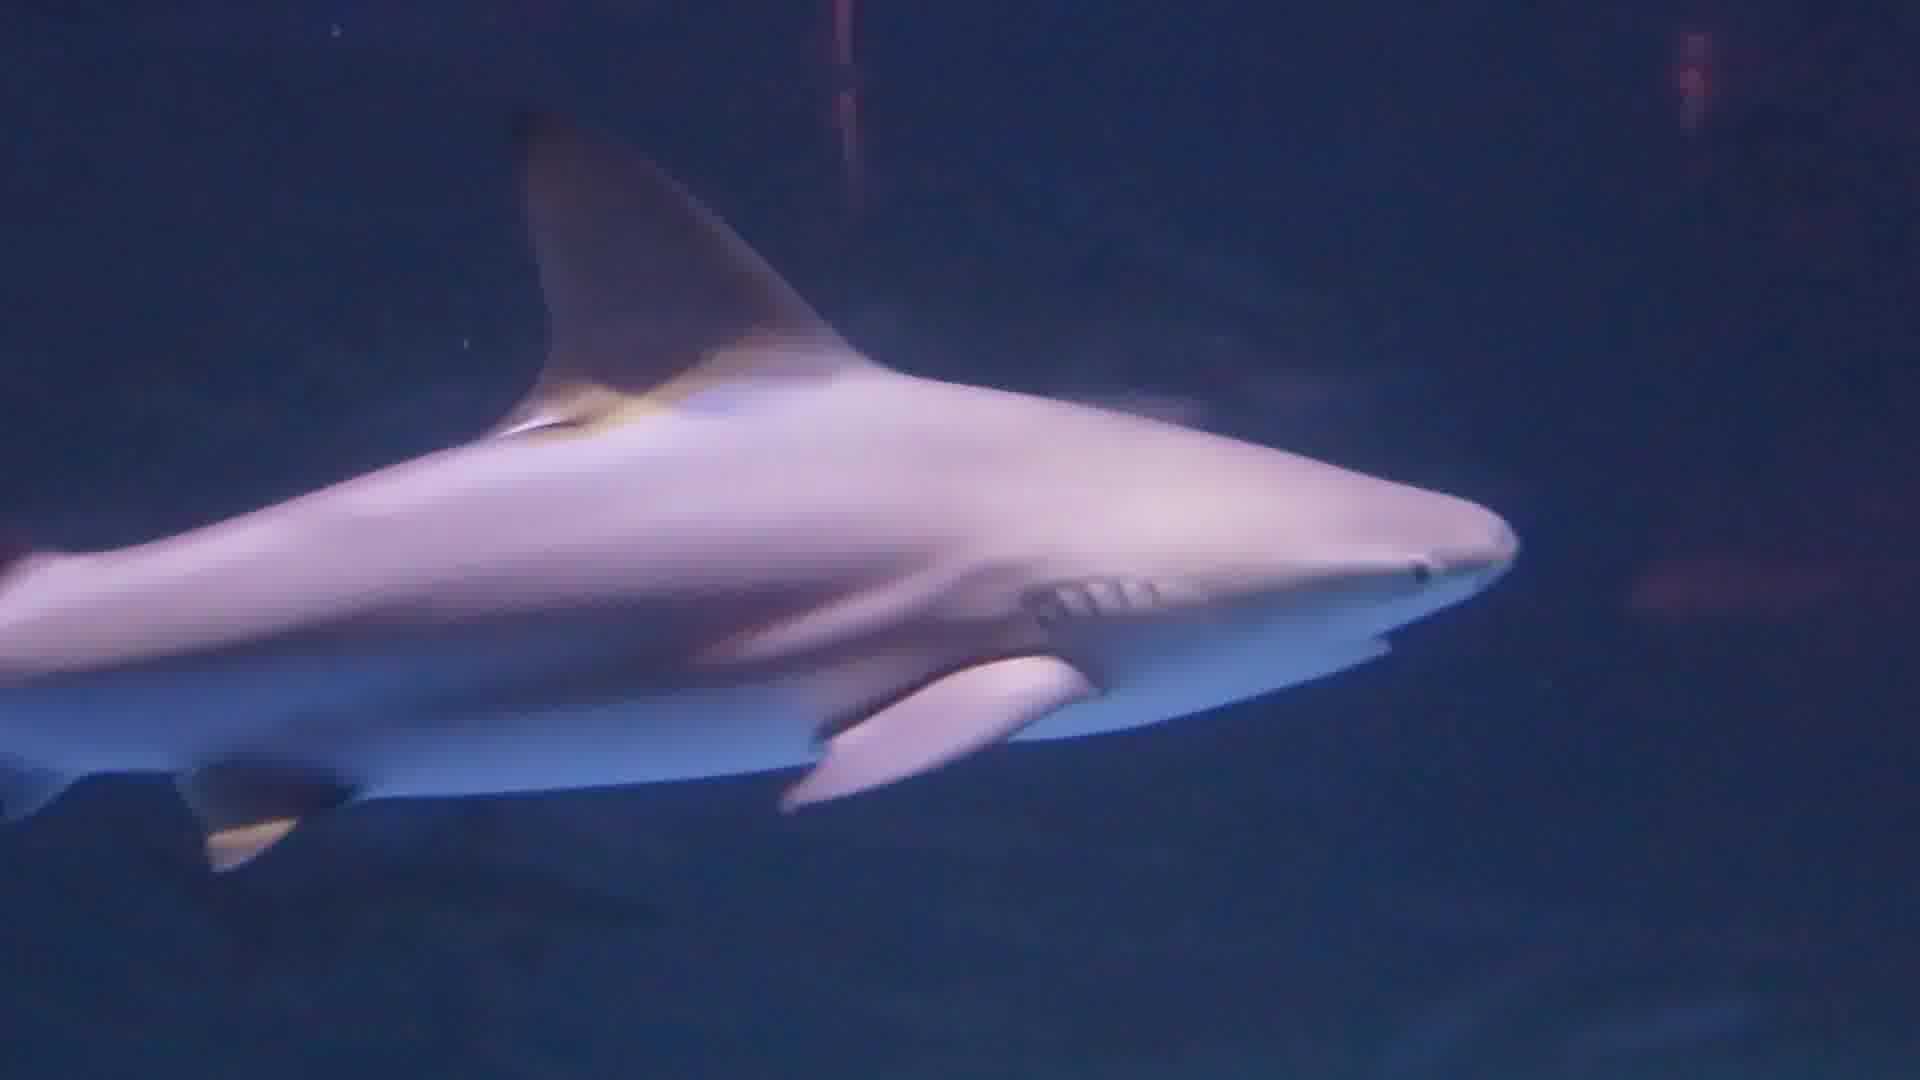Carcharhinus leucas: (1, 15, 1542, 989)
